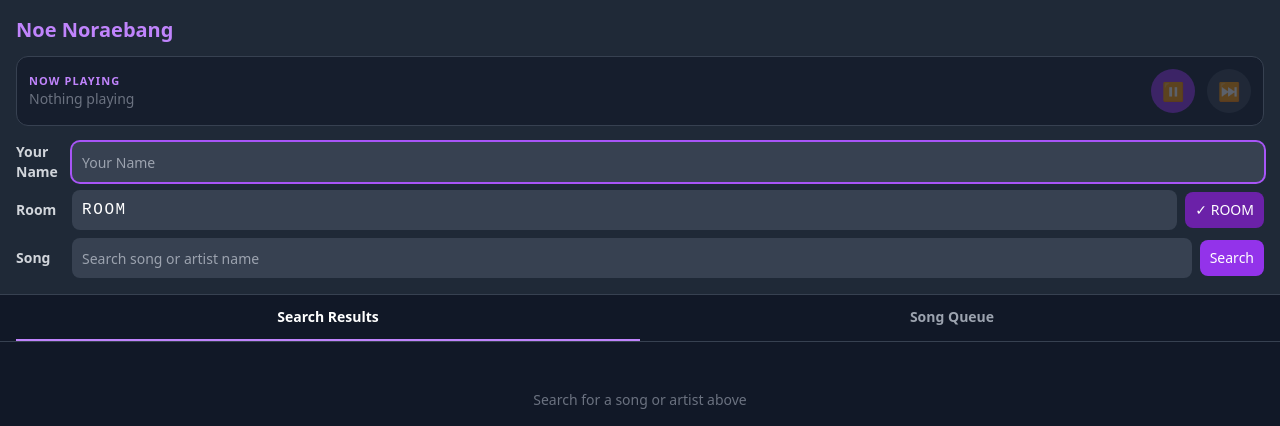
Test: MobileView › remote for the TV › says when the queue is empty
Click the tab "Song Queue".
click(952, 318)  # box [640,295,1264,341]
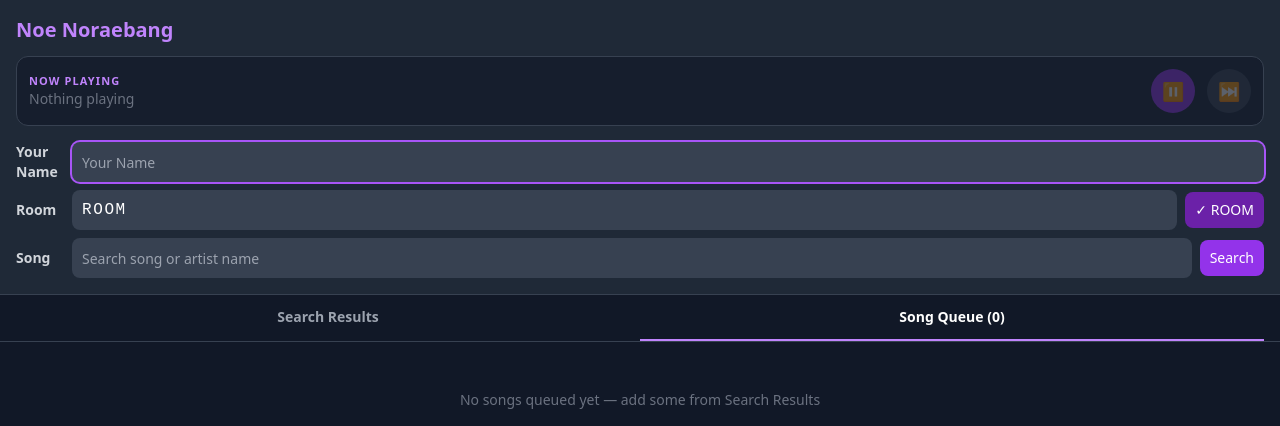
Expected: the text with test id "queue-empty" shows "No songs queued yet", [460,390,820,409]
